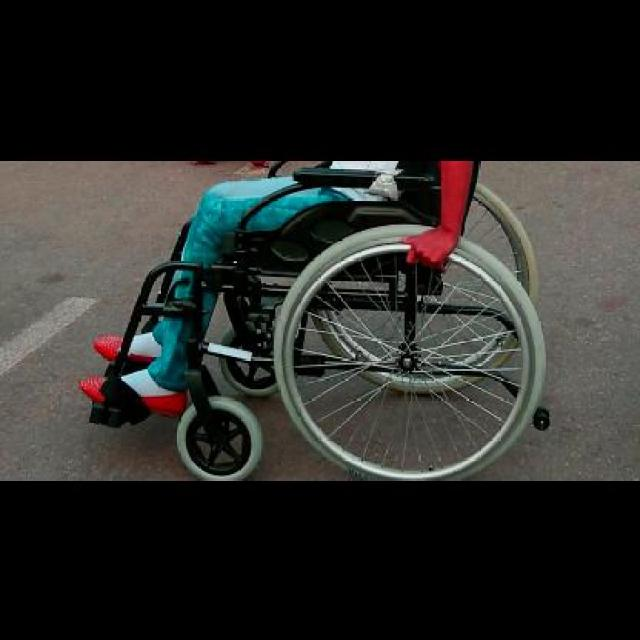wheelchairs: (90, 161, 550, 477)
